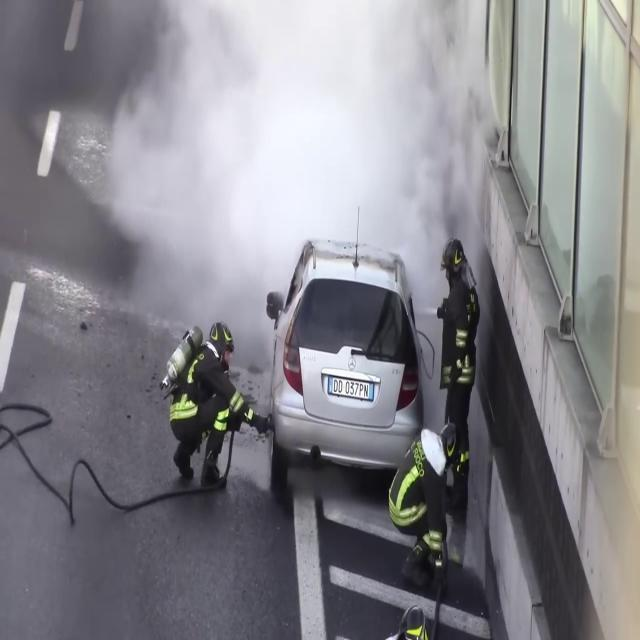Smoke: (89, 1, 499, 328)
